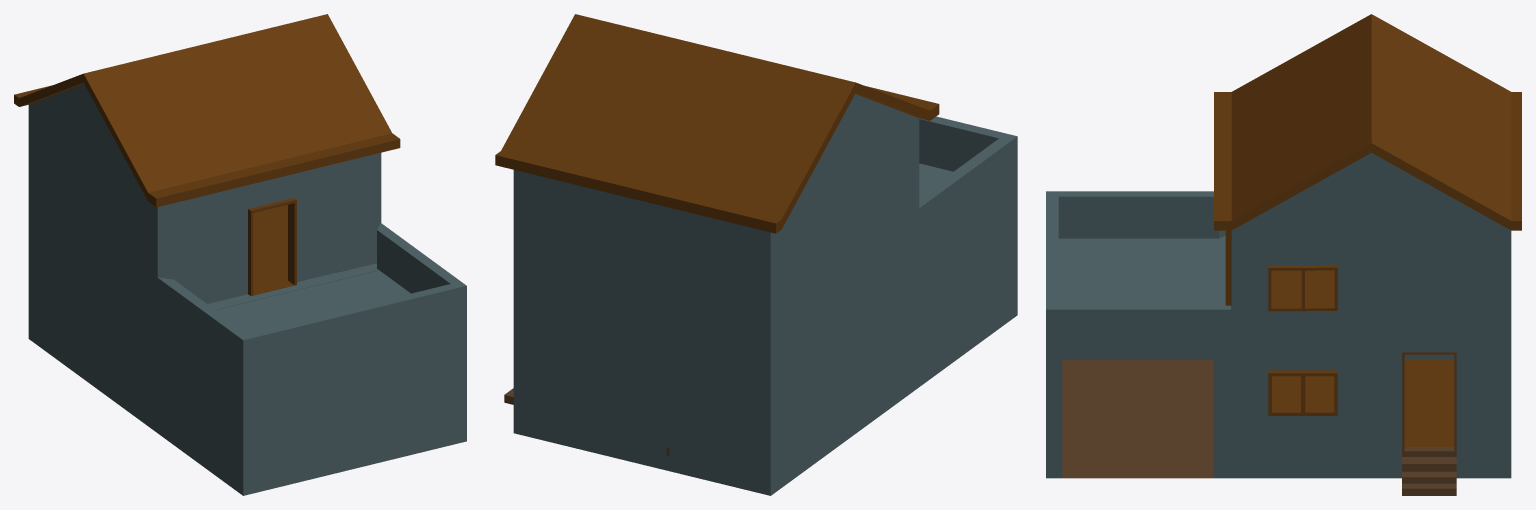
File: housd blend.fbx
The picture shows the model from 3 angles, left to right: view 1: azimuth 30°, elevation 25°; view 2: azimuth 150°, elevation 25°; view 3: azimuth 270°, elevation 25°; orthographic projection. The views are drawn at different scales.
Parts seen in each view (by area): view 1: Cube; view 2: Cube; view 3: Cube.
Part boxes in pixels (x1,y1,x2,y2): Cube: (14, 14, 466, 495); Cube: (495, 14, 1017, 495); Cube: (1046, 14, 1521, 495).
Size of the model in its own units: 612 by 691 by 874.
